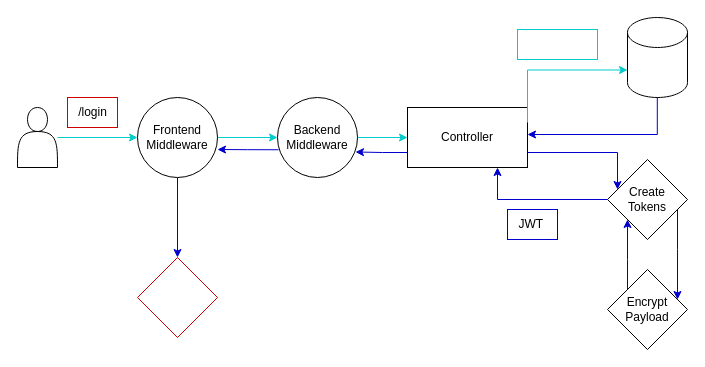
Some shapes in this 705 by 367 pixel diagram are drawn without their labels. The shapes that lost their labels are listed below. From the top down, each one's box as (x1, y1, x2, y2) in pixels, then its label:
(516, 28, 598, 60): Verify User
(626, 16, 688, 98): MongoDB
(136, 256, 218, 338): Redirect /me
